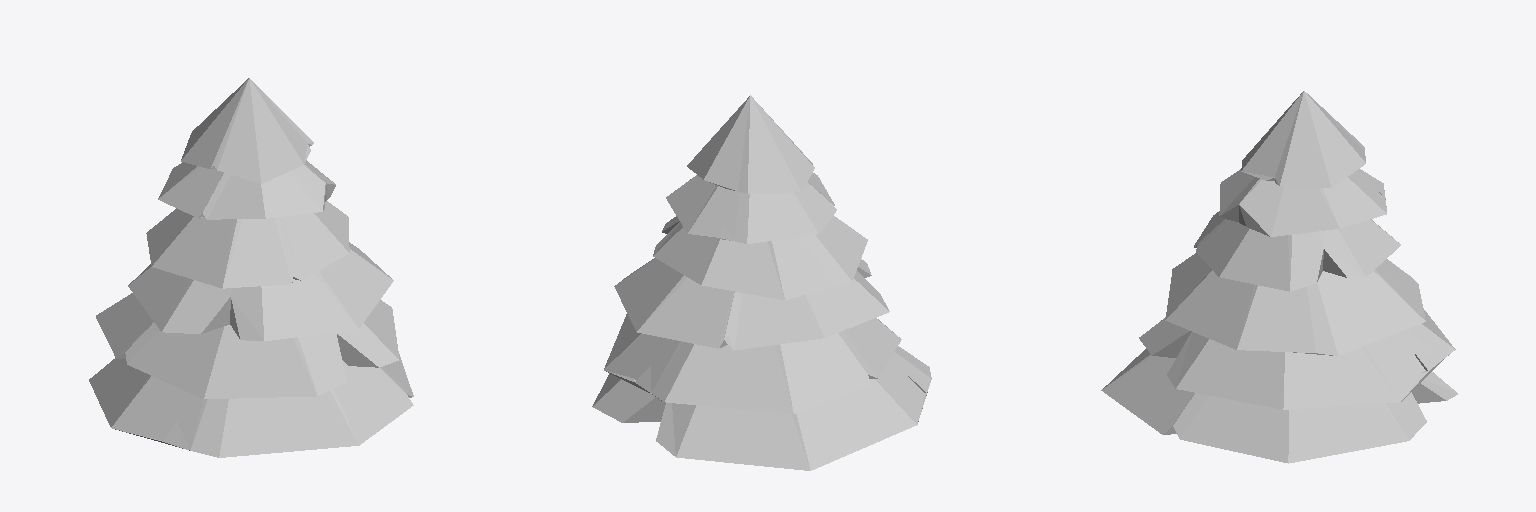
Rendered from Tree.obj.
3 views of the same model, side by side, from view 1: azimuth 30°, elevation 25°; view 2: azimuth 150°, elevation 25°; view 3: azimuth 270°, elevation 25° (orthographic).
Parts seen in each view (by area): view 1: Tree; view 2: Tree; view 3: Tree.
Part boxes in pixels (left/top/right/bottom): Tree: left=89, top=78, right=413, bottom=457; Tree: left=592, top=95, right=931, bottom=470; Tree: left=1101, top=91, right=1457, bottom=463.
Size of the model in its own units: 2.96 by 3.24 by 3.12.